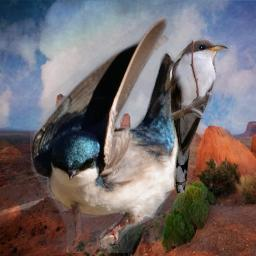Cuckoo: (168, 38, 228, 193)
Swallow: (30, 16, 206, 253)
